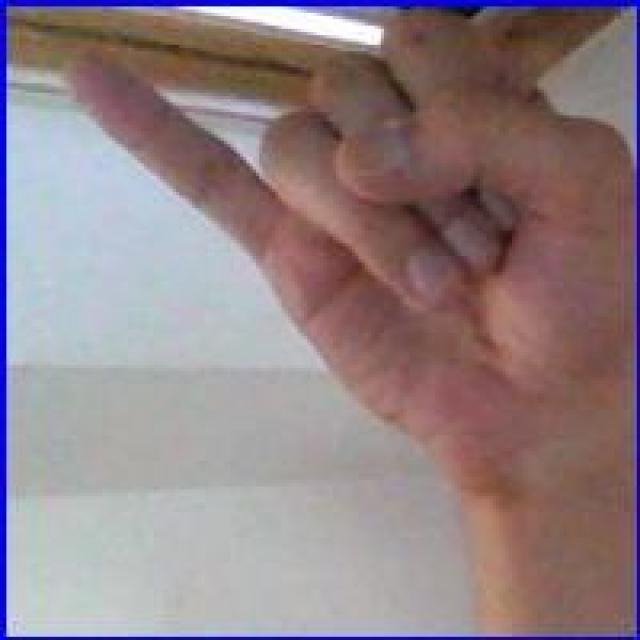J: (50, 22, 632, 458)
